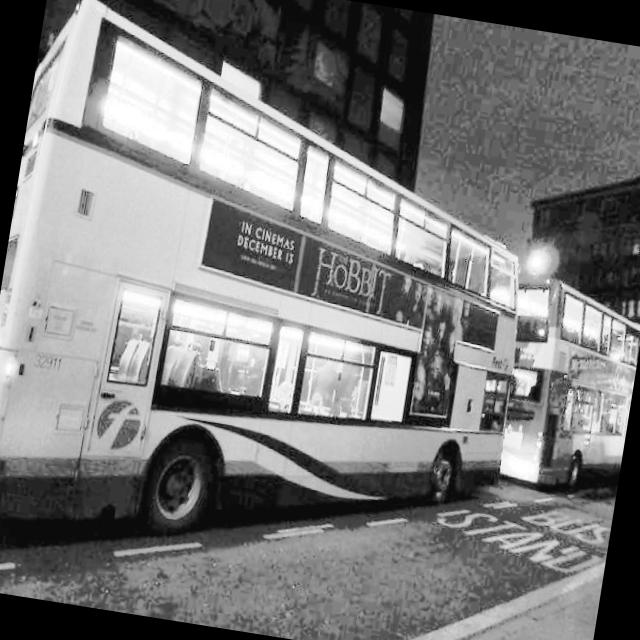Bus: (0, 26, 566, 539), (479, 217, 640, 555)
